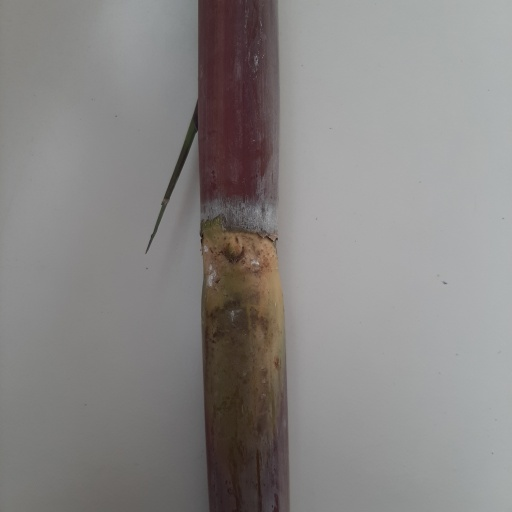Bud: (220, 235, 246, 266)
